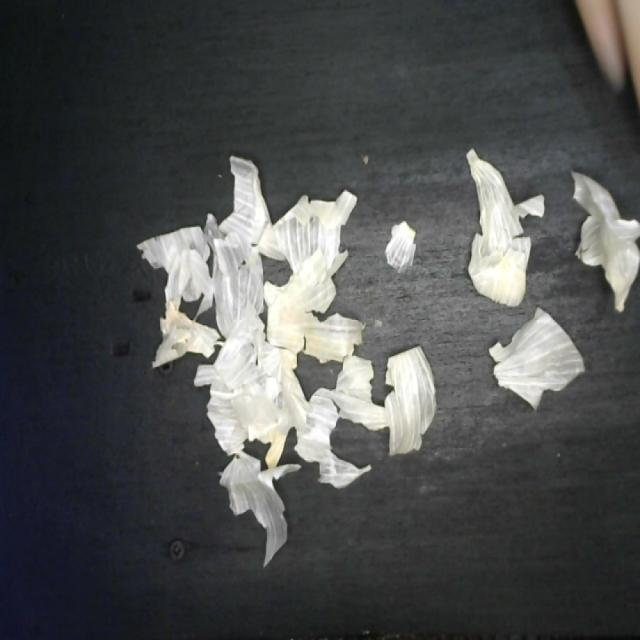biodegradable: (118, 142, 640, 575)
